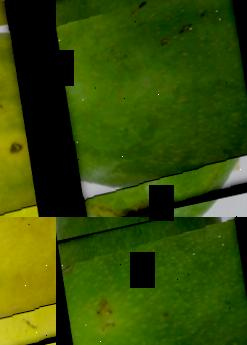PartiallyRipe: (0, 0, 56, 217)
Ripe: (0, 217, 56, 345)
Unripe: (56, 0, 247, 217), (56, 217, 247, 345)
